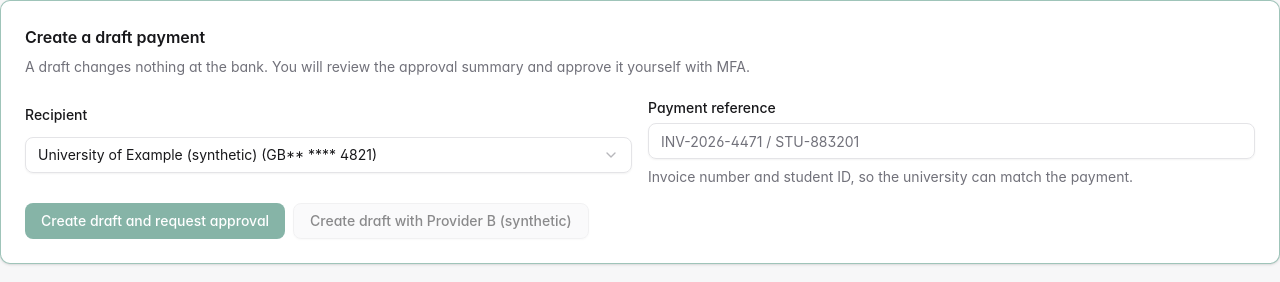
Test: the draft form: fewer clicks to a payment waiting for approval › offers both ways, and keeps them off until there is a reference
expect the button "Create draft and request approval" is disabled: met, box [25,203,285,239]
expect the button "Create draft with Provider B (synthetic)" is disabled: met, box [293,203,589,239]
Type "INV-1 / STU-9" into the field labelled "Payment reference". click: [952, 141]
box: [648,123,1255,159]
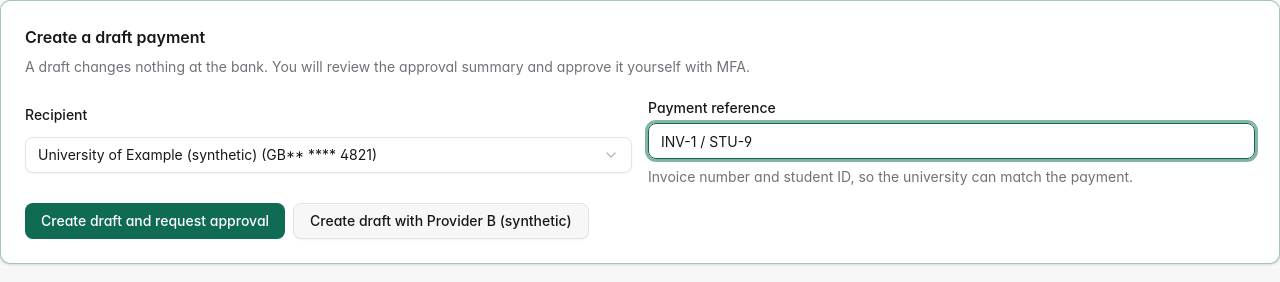
expect the button "Create draft and request approval" is enabled: met, box [25,203,285,239]
expect the button "Create draft with Provider B (synthetic)" is enabled: met, box [293,203,589,239]
